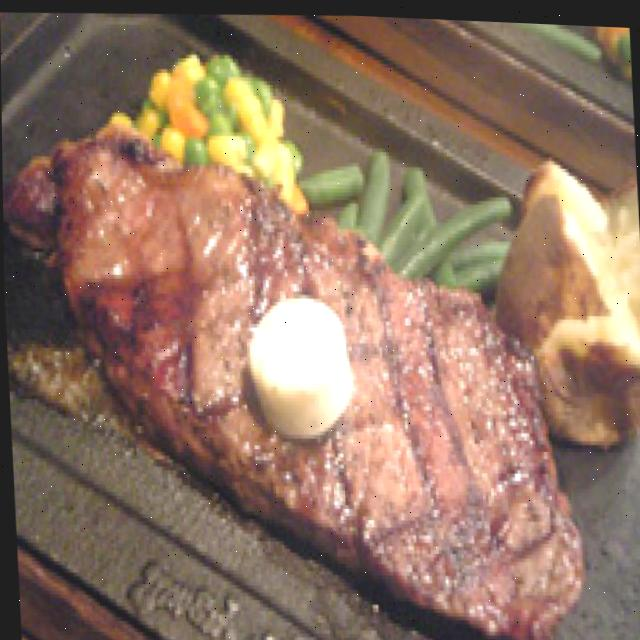牛肉菜式: (1, 94, 594, 640)
